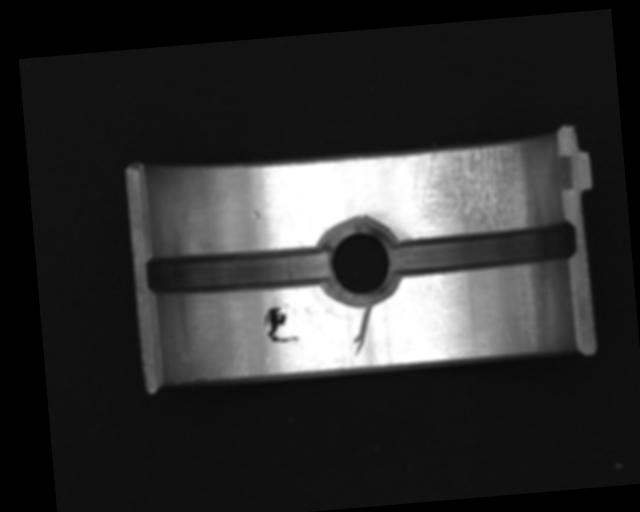blot: (261, 303, 300, 344)
bruise: (249, 209, 263, 222)
gap: (145, 237, 335, 302), (393, 220, 578, 277)
hole: (314, 216, 403, 307)
nick: (348, 303, 376, 358), (427, 272, 445, 294)
scratch: (403, 142, 539, 238)
